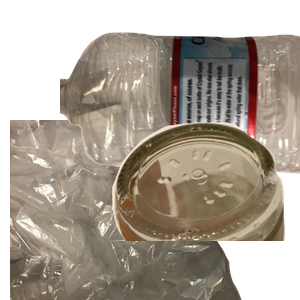glass: (89, 120, 300, 300)
metal: (74, 74, 257, 254)
plastic: (60, 30, 300, 196)
trash: (10, 120, 244, 300)
